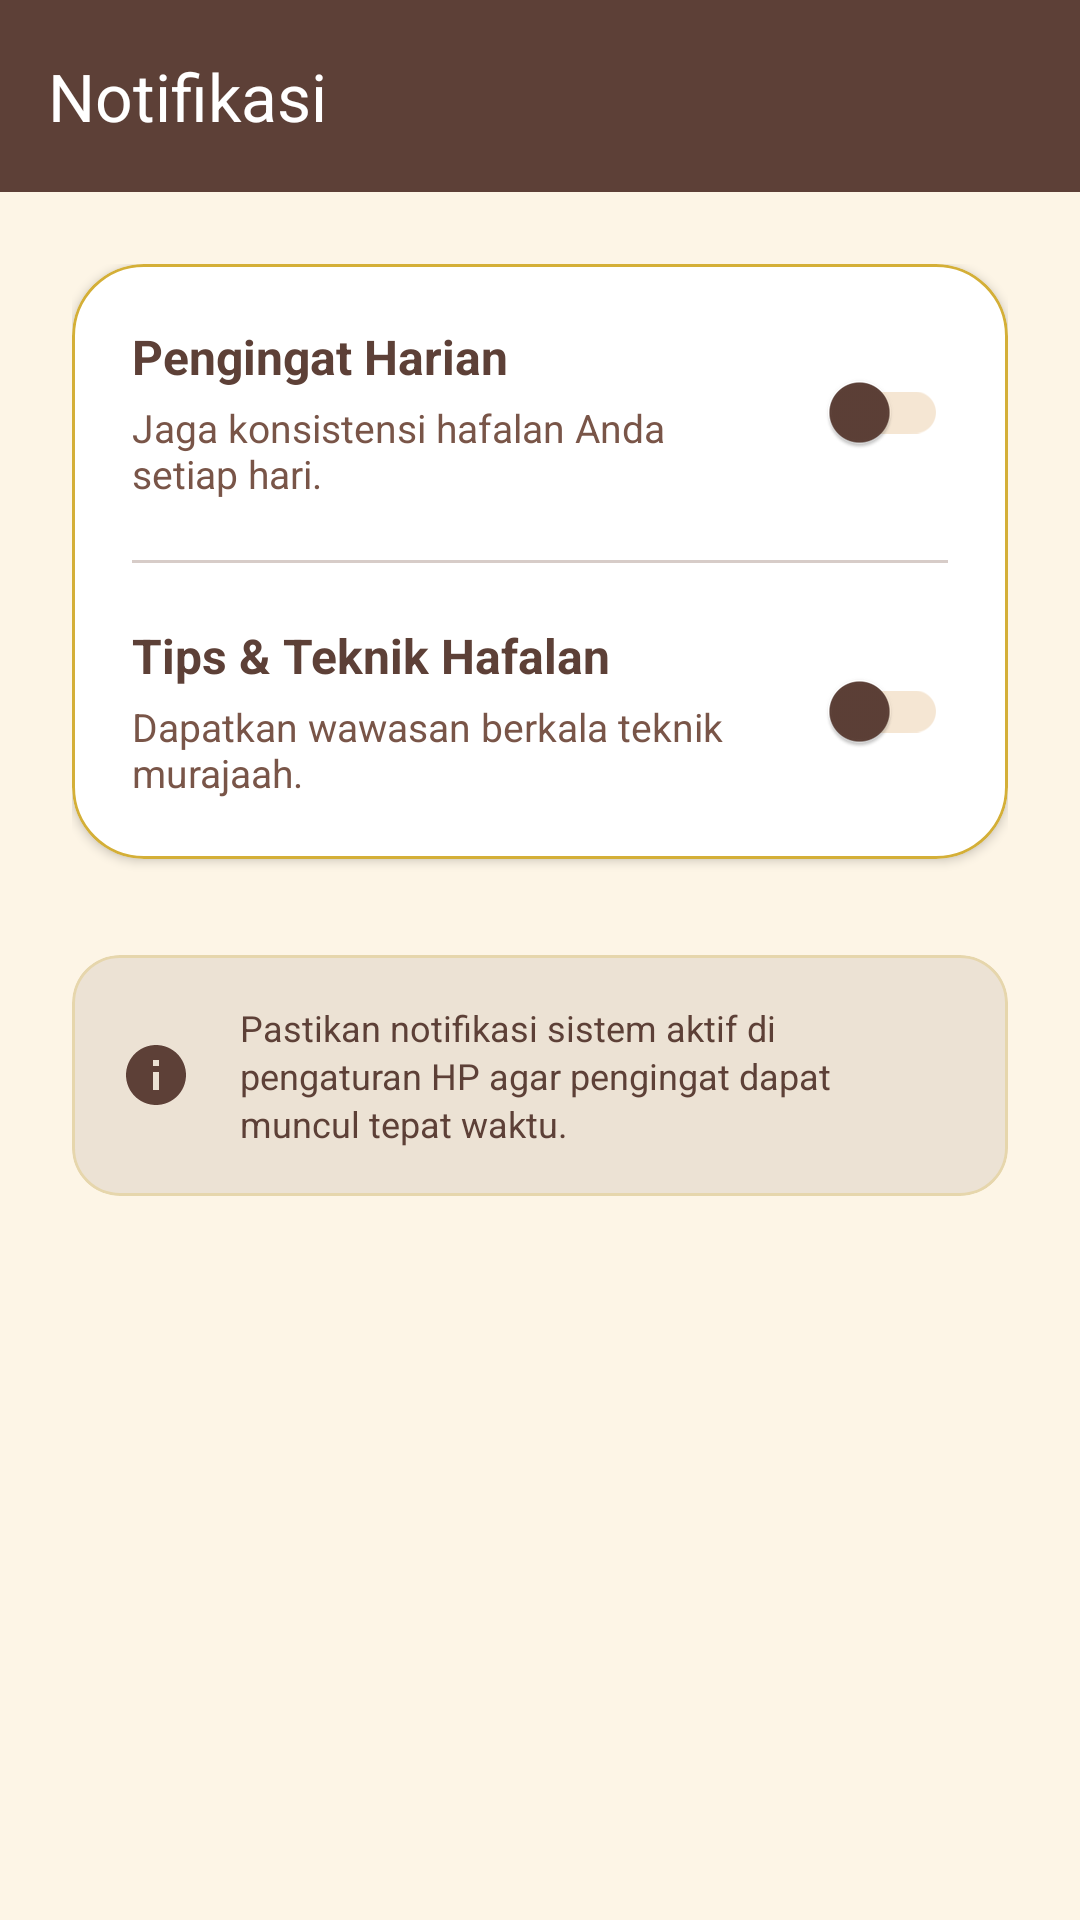

Named icons in this screenshot (1080x1920) and their centers, point (x, y):
info: point (156, 1075)
